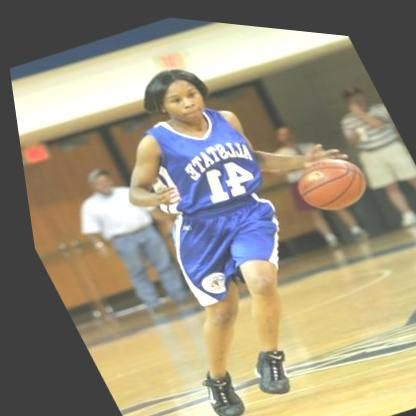basketball: (281, 136, 377, 218)
